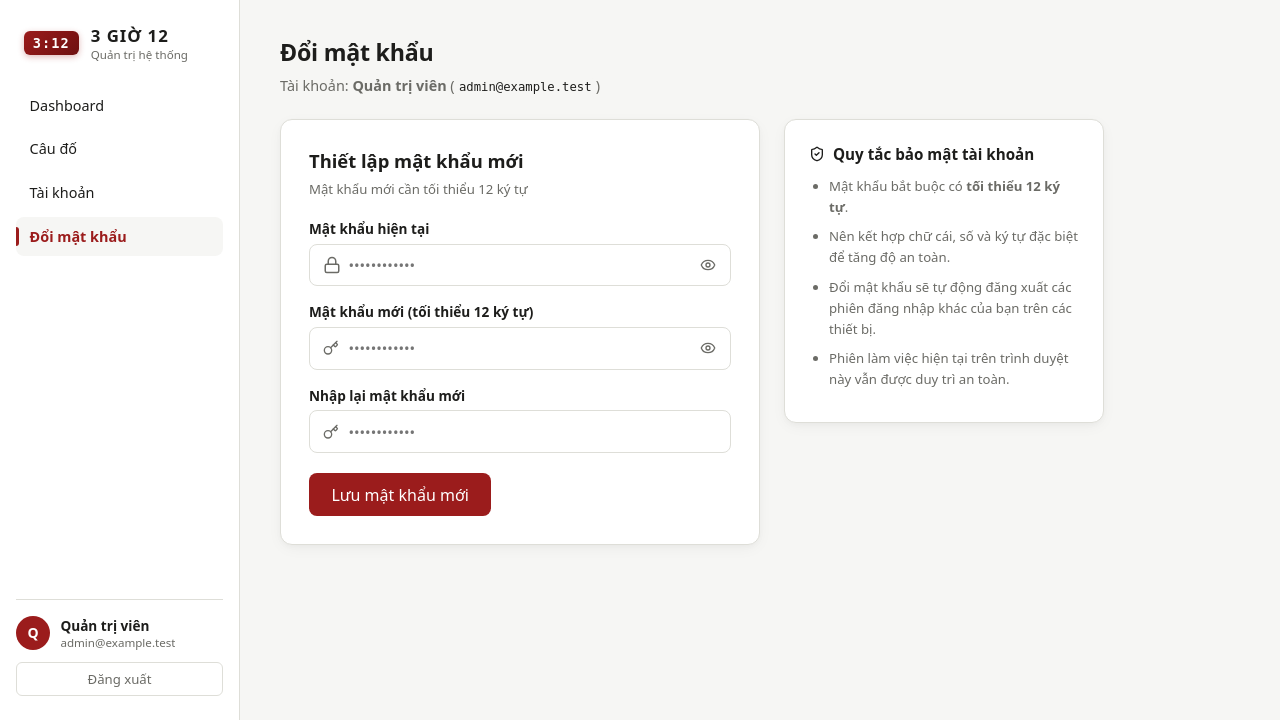
Test: ProfilePage: successfully changes password with matching input
Expected: the heading "Đổi mật khẩu" is shown, [280,36,434,68]
Type "matkhaucu12345" into the password field labelled "Mật khẩu hiện tại" at point(520, 265), box [309,244,731,286]
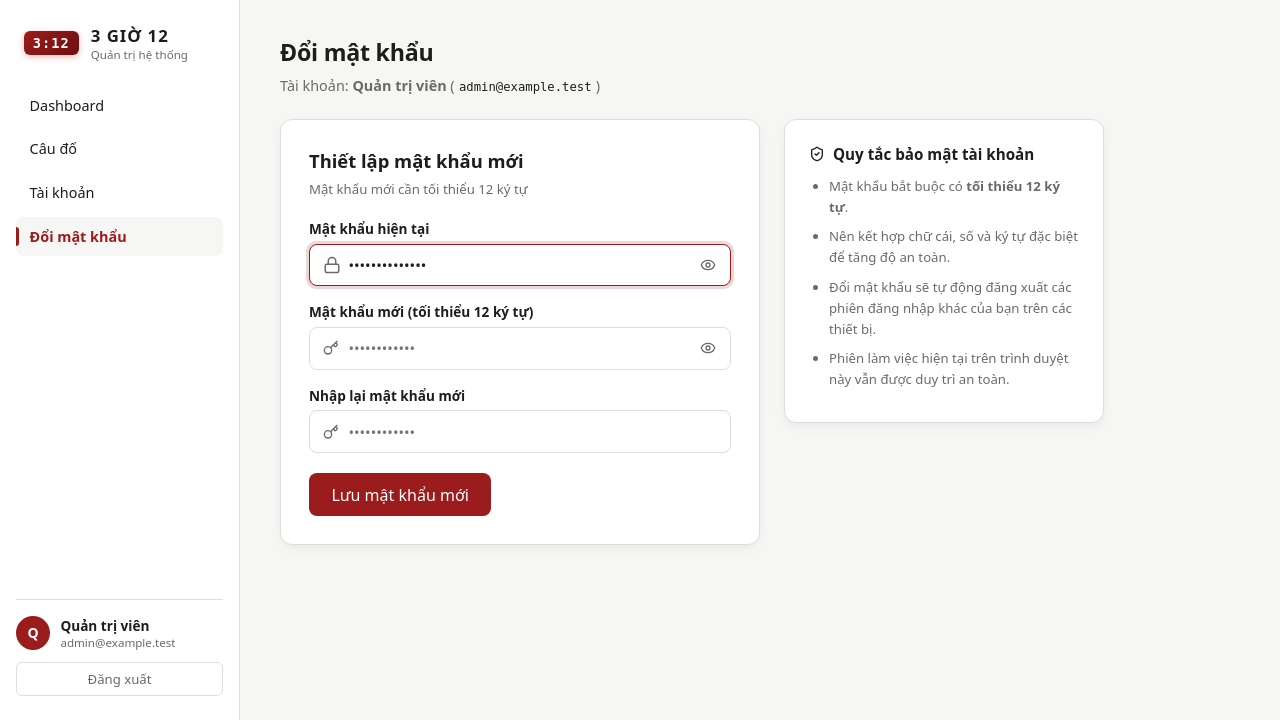
Type "matkhaumoi12345" into the password field labelled "Mật khẩu mới (tối thiểu 12 ký tự)" at point(520, 348), box [309,327,731,370]
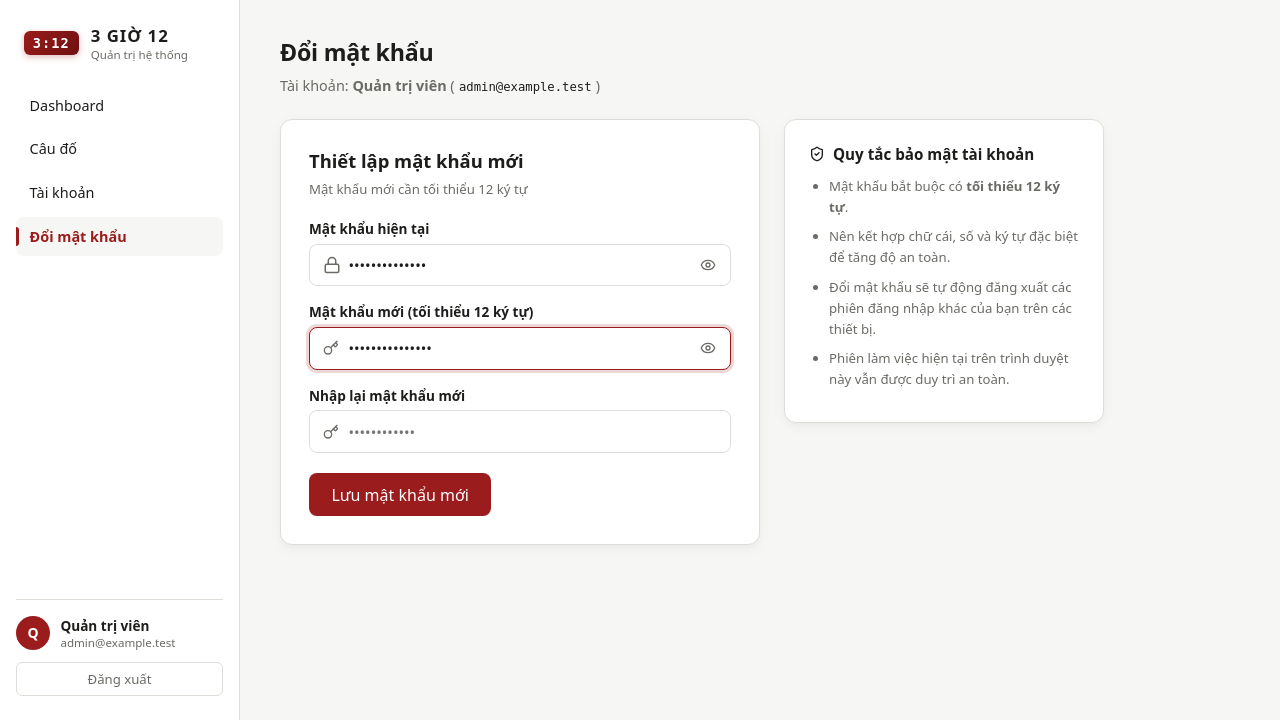
Type "matkhaumoi12345" into the password field labelled "Nhập lại mật khẩu mới" at point(520, 432), box [309,410,731,453]
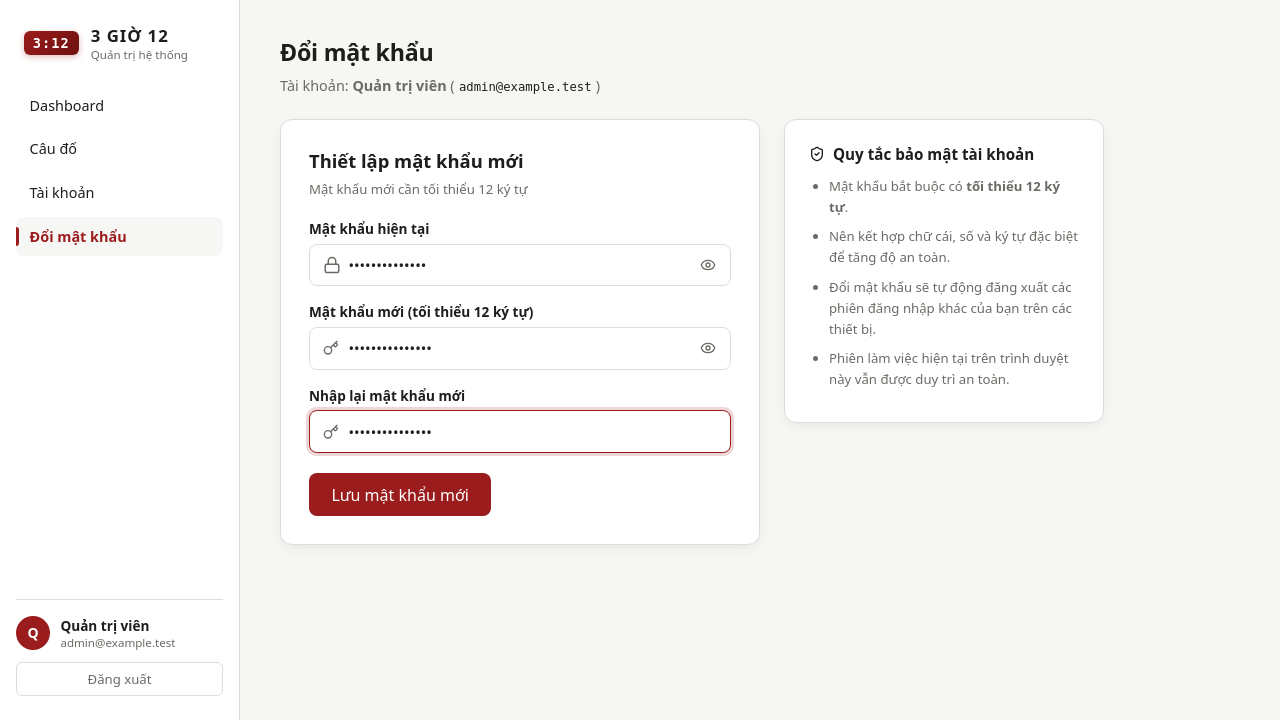
Click the button "Lưu mật khẩu mới" at point(400, 494), box [309,473,491,516]
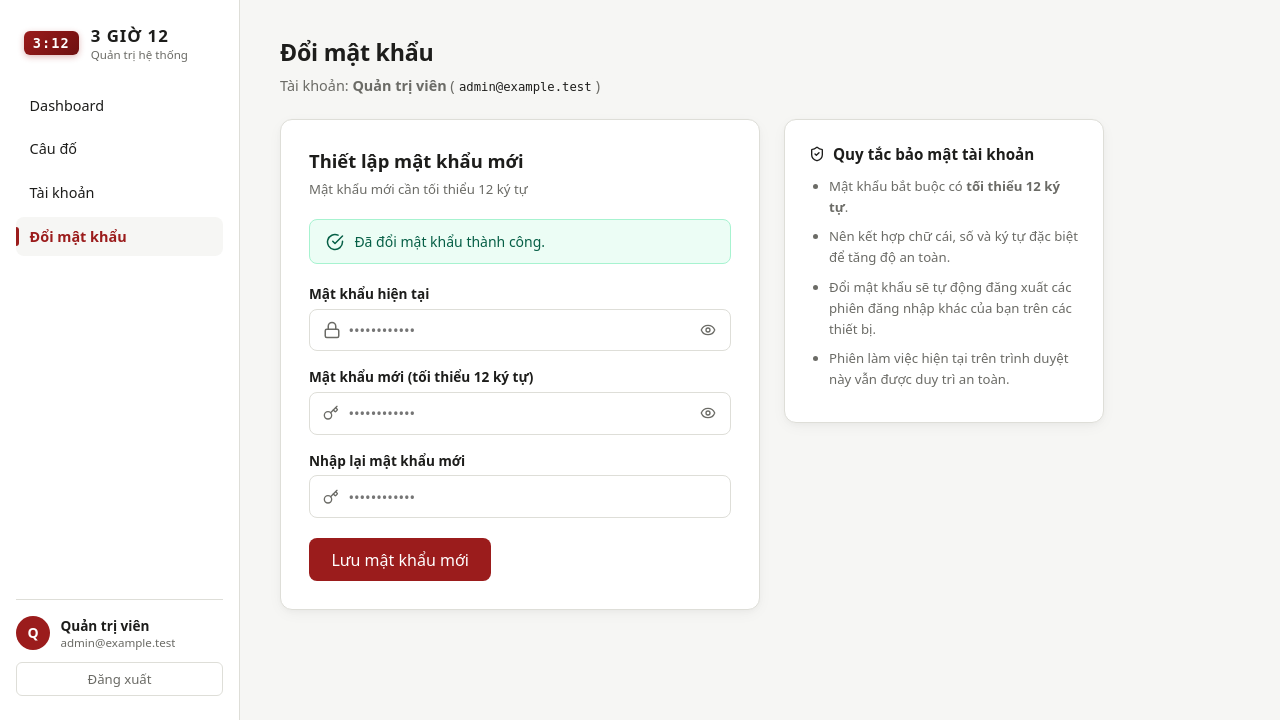
Now the message reads "Đã đổi mật khẩu thành công.", box [354,232,545,251]
